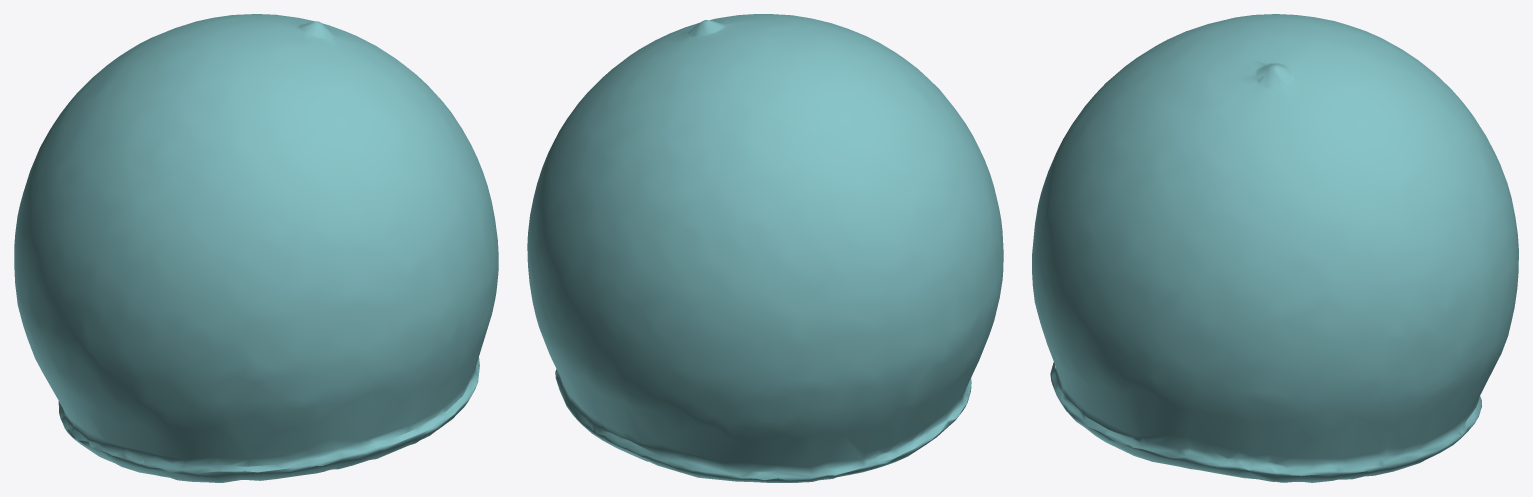
3 renders of one model, left to right at view 1: azimuth 30°, elevation 25°; view 2: azimuth 150°, elevation 25°; view 3: azimuth 270°, elevation 25°, orthographic. The views are drawn at different scales.
Visible parts, largest first — view 1: 左侧玻璃体; view 2: 左侧玻璃体; view 3: 左侧玻璃体.
Part boxes in pixels (<box>): 左侧玻璃体: <box>14,14,498,482</box>; 左侧玻璃体: <box>527,14,1003,482</box>; 左侧玻璃体: <box>1032,14,1518,482</box>.
Size of the model in its own units: 0.03 by 0.0261 by 0.0299.
